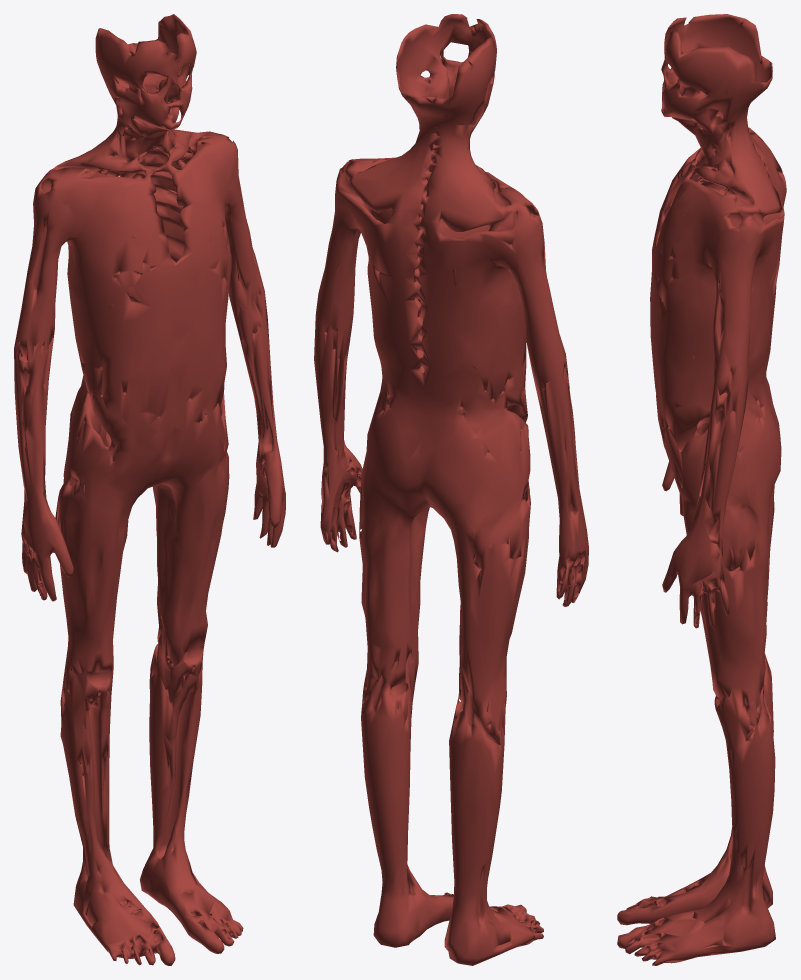
File: pediatric_adolescent_female.muscular.LOD2.glb
3 views of the same model, side by side, from view 1: azimuth 30°, elevation 25°; view 2: azimuth 150°, elevation 25°; view 3: azimuth 270°, elevation 25° (orthographic).
Parts seen in each view (by area): view 1: PEDIATRIC.ADOLESCENT.FEMALE.MUSCULAR.MUSCLE; view 2: PEDIATRIC.ADOLESCENT.FEMALE.MUSCULAR.MUSCLE; view 3: PEDIATRIC.ADOLESCENT.FEMALE.MUSCULAR.MUSCLE.
Part boxes in pixels (left/top/right/bottom): PEDIATRIC.ADOLESCENT.FEMALE.MUSCULAR.MUSCLE: left=14, top=14, right=285, bottom=965; PEDIATRIC.ADOLESCENT.FEMALE.MUSCULAR.MUSCLE: left=314, top=14, right=588, bottom=965; PEDIATRIC.ADOLESCENT.FEMALE.MUSCULAR.MUSCLE: left=617, top=14, right=786, bottom=965.
Size of the model in its own units: 0.4582 by 1.58 by 0.2658.
